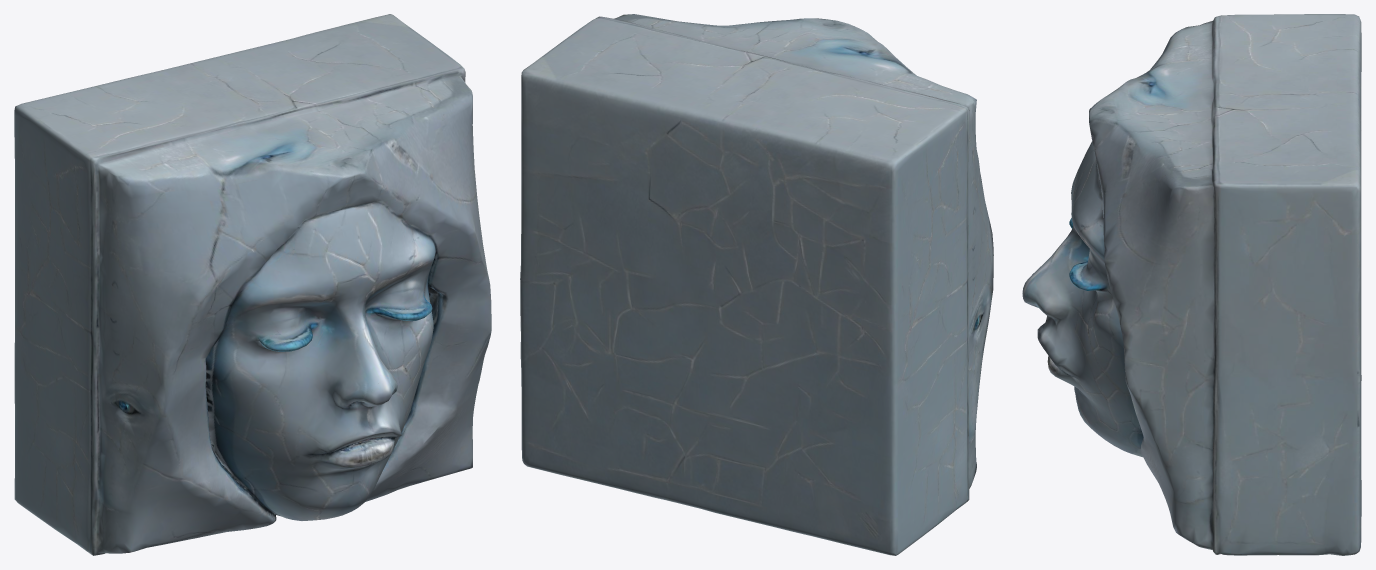
The model's file is Ethereal_Slumber_0902233625_texture.glb.
The picture shows the model from 3 angles, left to right: view 1: azimuth 30°, elevation 25°; view 2: azimuth 150°, elevation 25°; view 3: azimuth 270°, elevation 25°; orthographic projection. The views are drawn at different scales.
Parts seen in each view (by area): view 1: Mesh1.0; view 2: Mesh1.0; view 3: Mesh1.0.
Part boxes in pixels (x1=…): Mesh1.0: x1=14, y1=14, x2=491, y2=555; Mesh1.0: x1=520, y1=14, x2=993, y2=555; Mesh1.0: x1=1022, y1=14, x2=1361, y2=555.
Bounding box in the file's own units: 9.96 × 10 × 8.26.
1 material, 1 textured.
